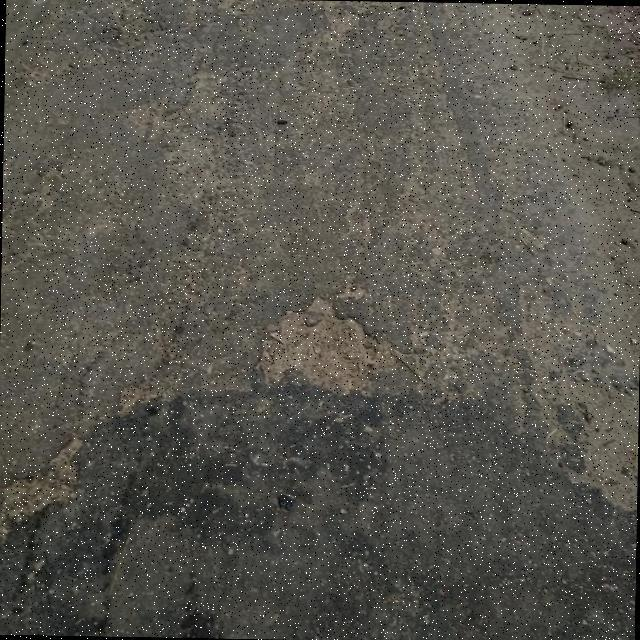Pothole: (257, 297, 373, 397)
